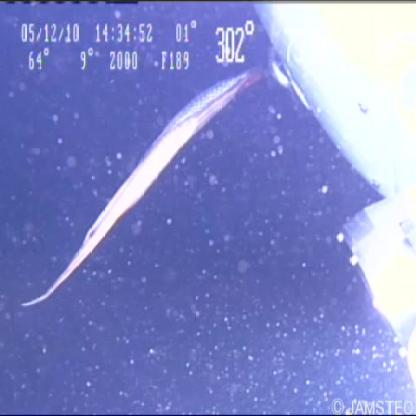Bio: (19, 59, 272, 314)
